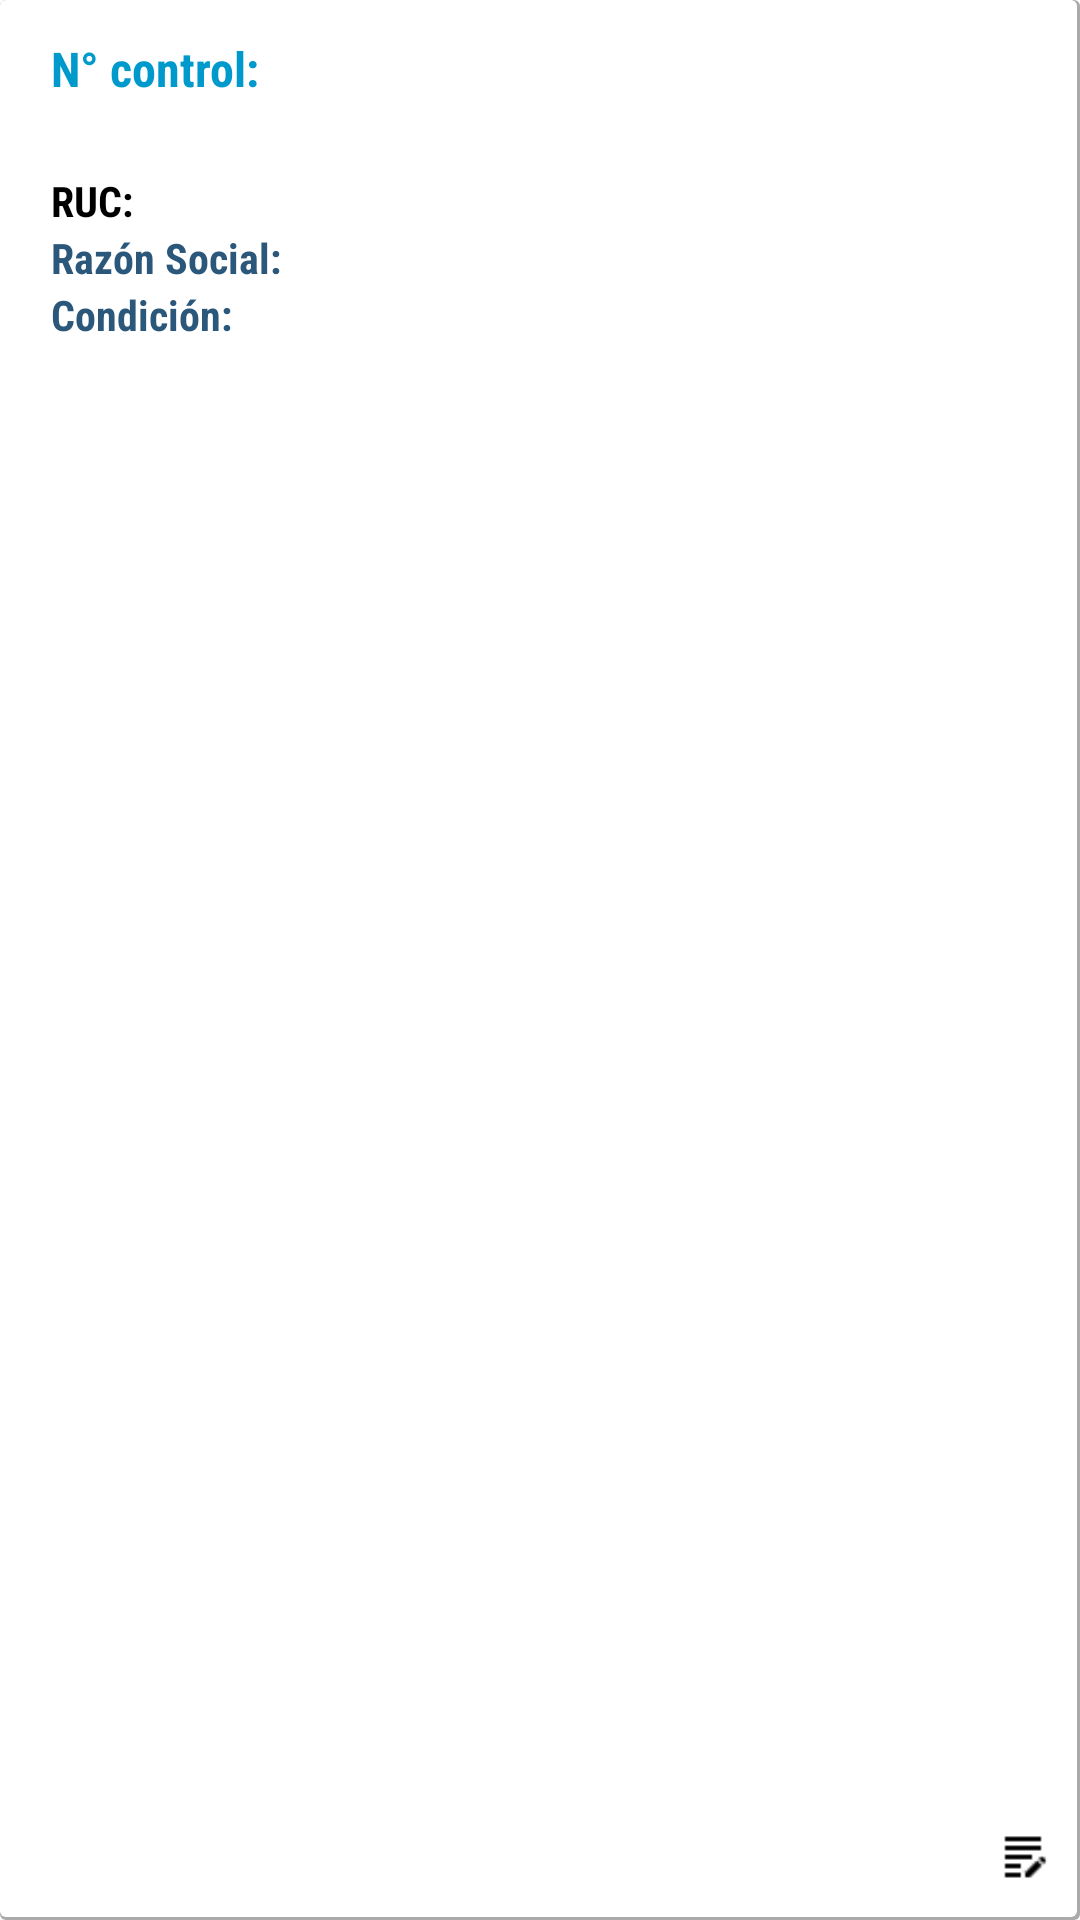

Where to tap for icons on this 1080×1920 app screen, as point (x, y):
formedit: point (1025, 1857)
